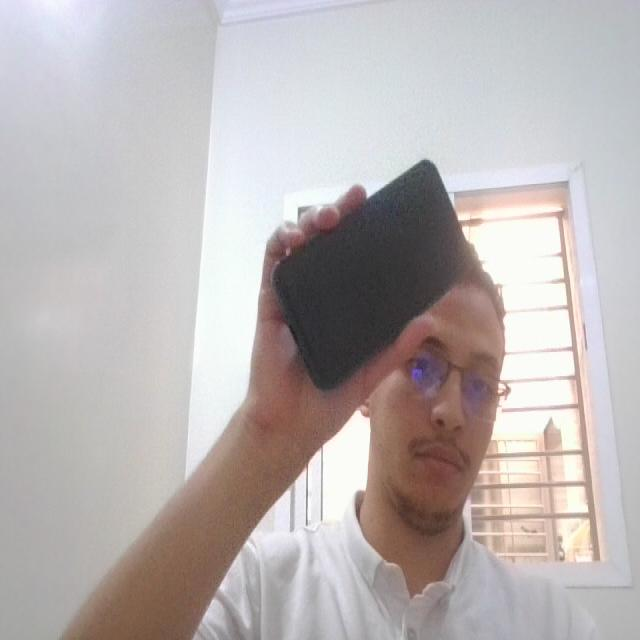phone: (269, 151, 469, 392)
